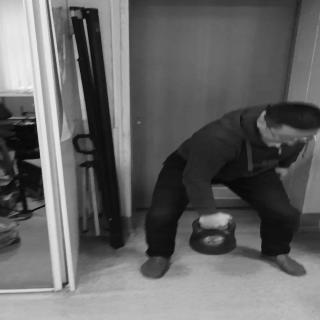girya: (191, 219, 240, 255)
